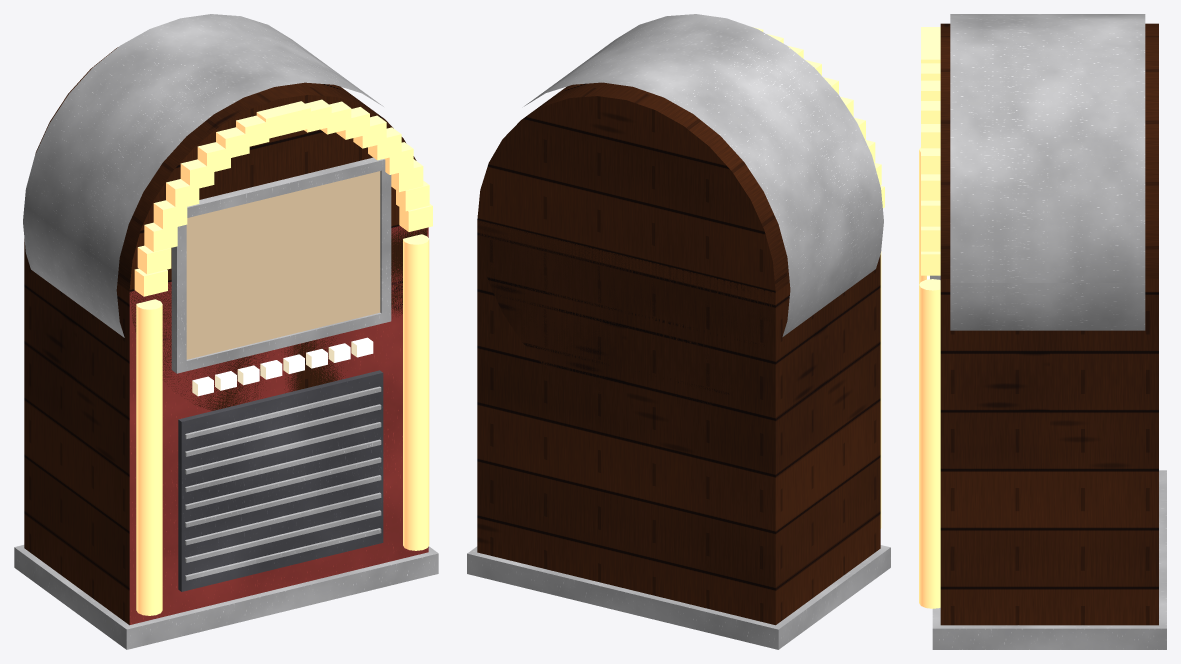
Rendered from jukebox.glb.
The picture shows the model from 3 angles, left to right: view 1: azimuth 30°, elevation 25°; view 2: azimuth 150°, elevation 25°; view 3: azimuth 270°, elevation 25°; orthographic projection. The views are drawn at different scales.
Visible parts, largest first — view 1: jukebox; view 2: jukebox; view 3: jukebox.
Part boxes in pixels (bbox=[...]): jukebox: bbox=[14, 14, 438, 649]; jukebox: bbox=[467, 14, 890, 649]; jukebox: bbox=[919, 14, 1166, 649].
Size of the model in its own units: 0.97 by 1.52 by 0.635.
7 materials, 4 textured.
